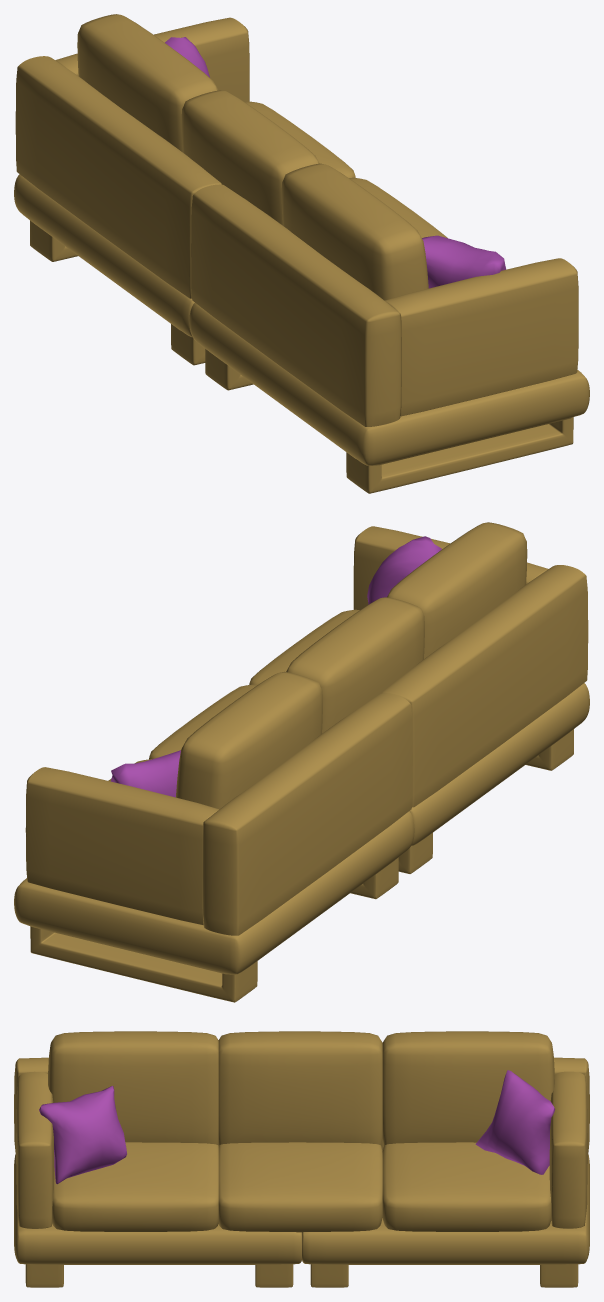
File: Couch_geo.fbx
The picture shows the model from 3 angles, top to bottom: view 1: azimuth 30°, elevation 25°; view 2: azimuth 150°, elevation 25°; view 3: azimuth 270°, elevation 25°; orthographic projection. The views are drawn at different scales.
Parts seen in each view (by area): view 1: Couch_main, Couch_pillow_1, Couch_pillow_2; view 2: Couch_main, Couch_pillow_1, Couch_pillow_2; view 3: Couch_main, Couch_pillow_1, Couch_pillow_2.
Part boxes in pixels (x1,y1,x2,y2): Couch_main: (14, 14, 589, 493); Couch_pillow_1: (422, 235, 506, 288); Couch_pillow_2: (165, 37, 209, 77); Couch_main: (14, 522, 589, 1002); Couch_pillow_1: (367, 536, 441, 604); Couch_pillow_2: (110, 750, 180, 797); Couch_main: (14, 1031, 589, 1287); Couch_pillow_1: (39, 1086, 126, 1184); Couch_pillow_2: (475, 1070, 555, 1174).
Size of the model in its own units: 1.1 by 1.07 by 2.92.
